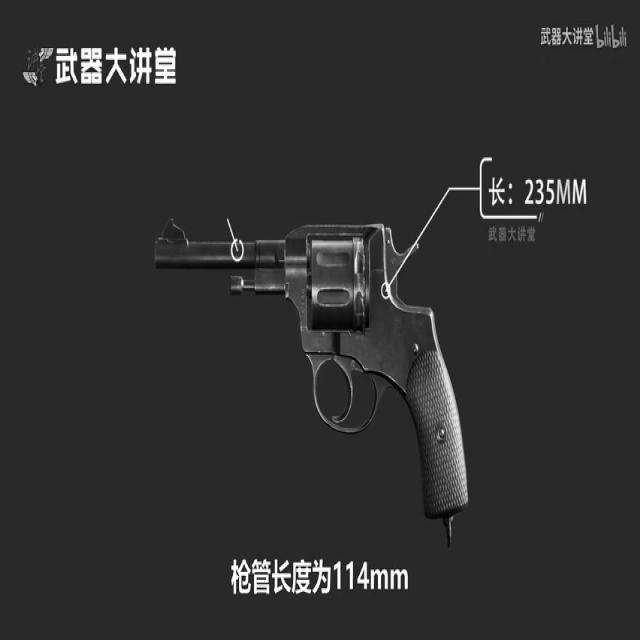Hand-Gun: (149, 199, 468, 544)
